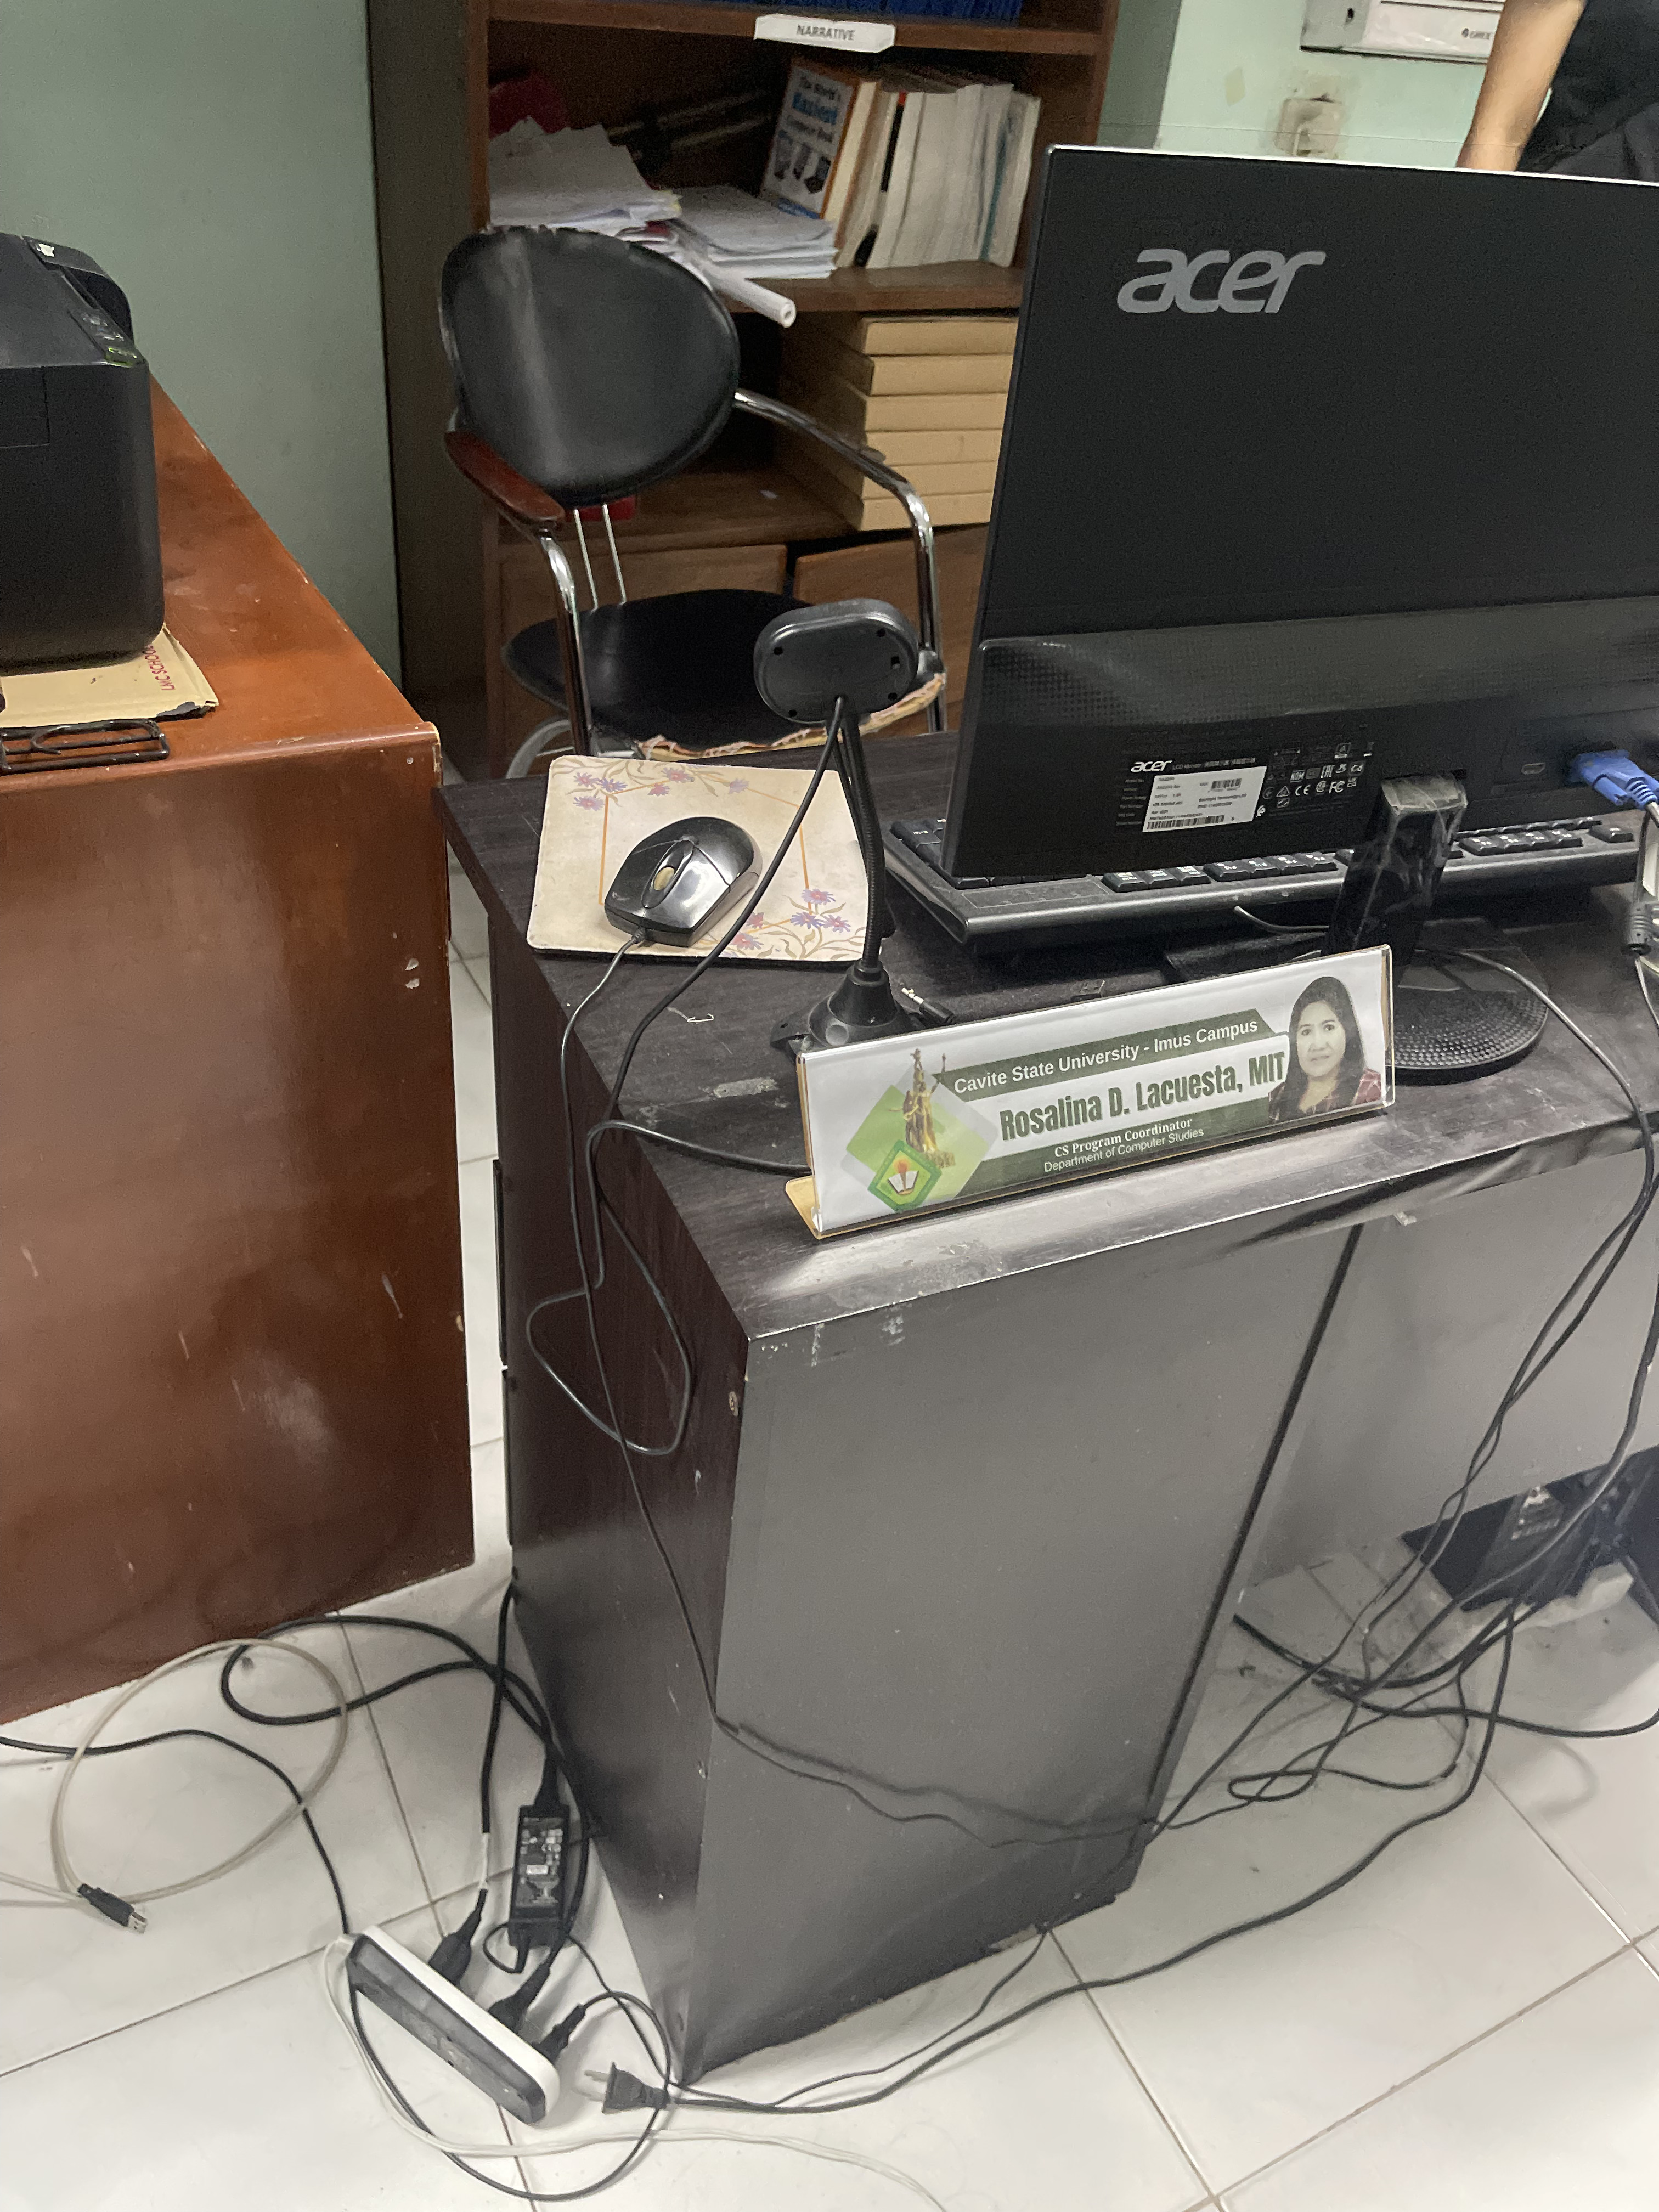table1: (399, 719, 1659, 2078)
